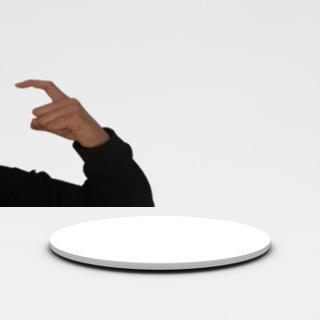WHY: (8, 72, 106, 146)
